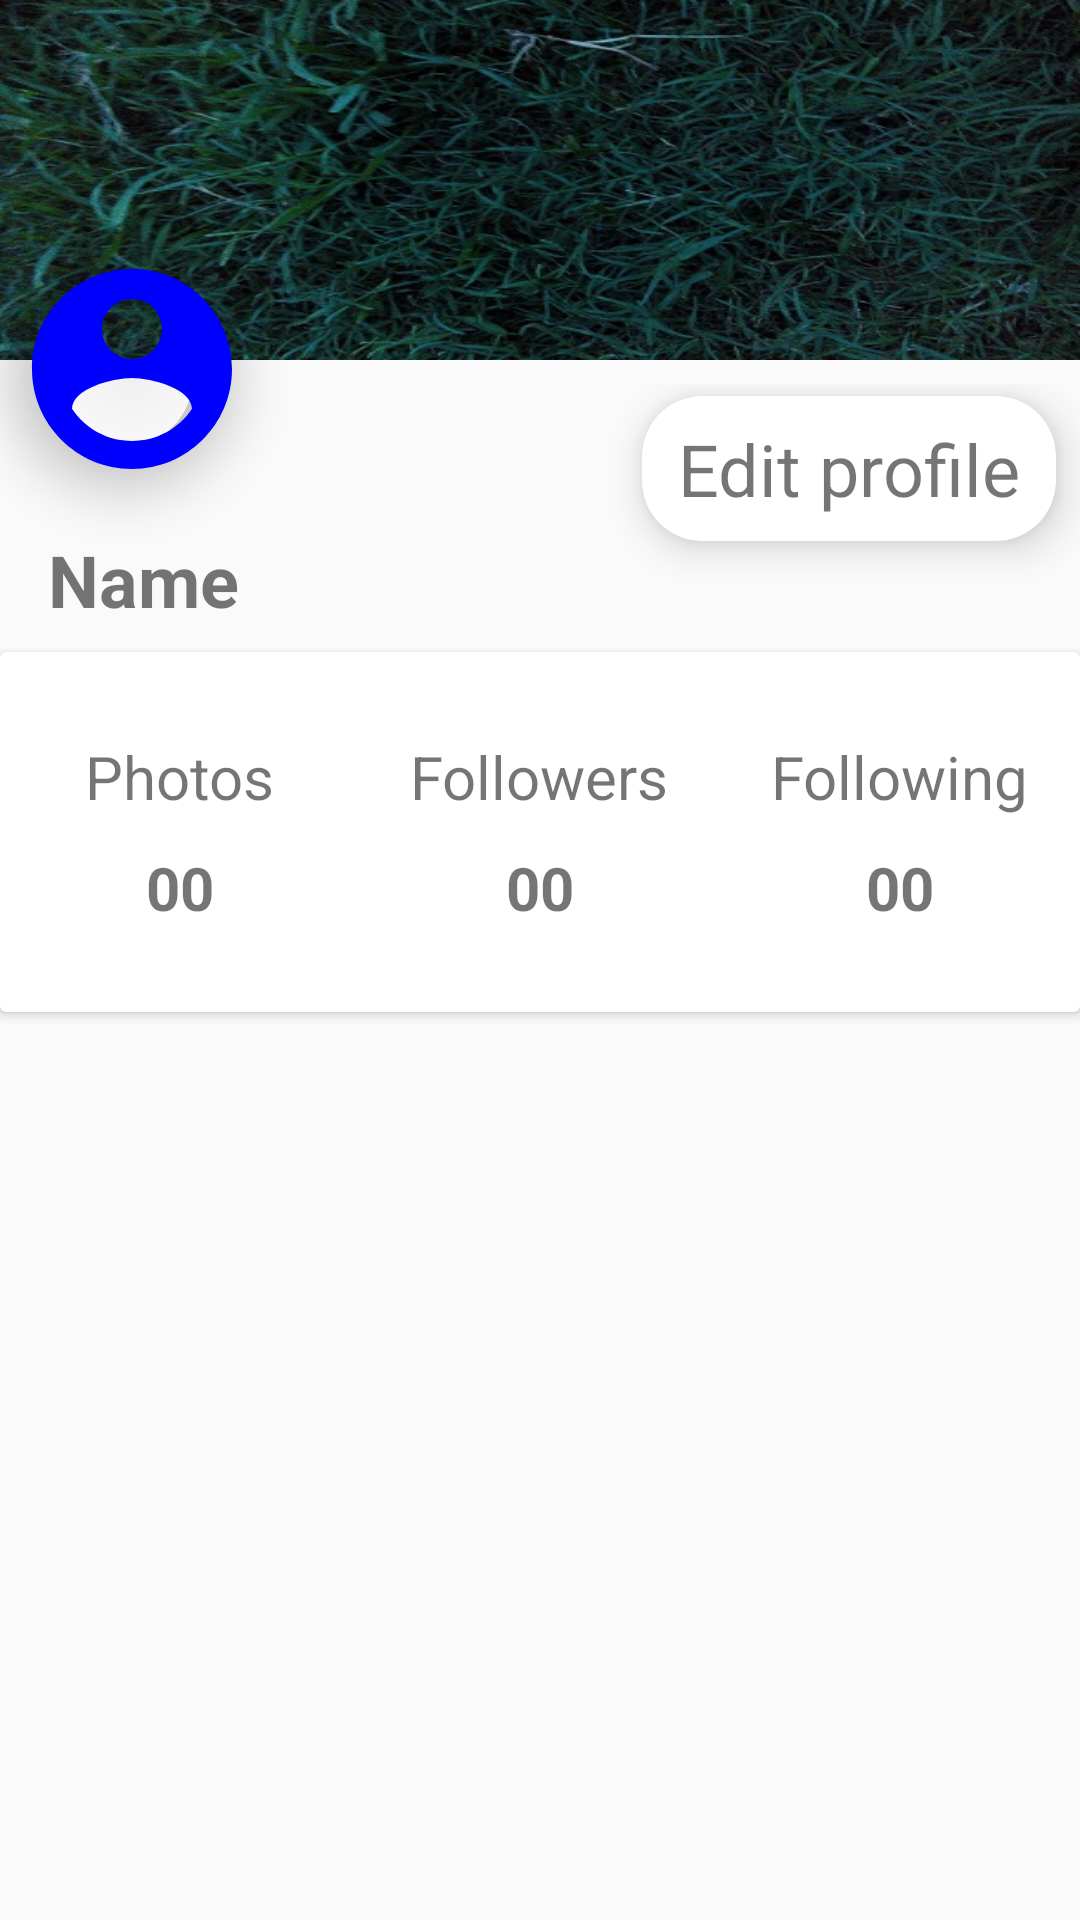

Icon click points for this 1080px x 1920px phone screenshot, format [x,y]:
account circle: [132,369]
